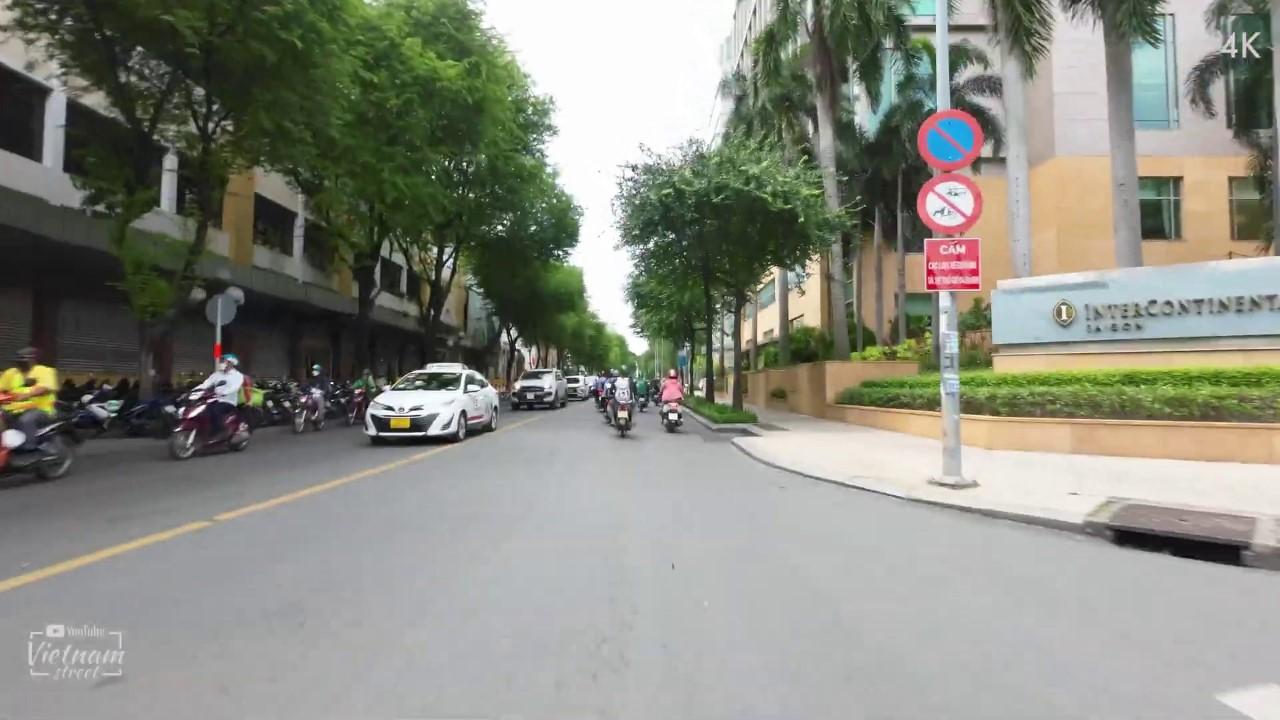cam_do_xe: (916, 108, 984, 171)
